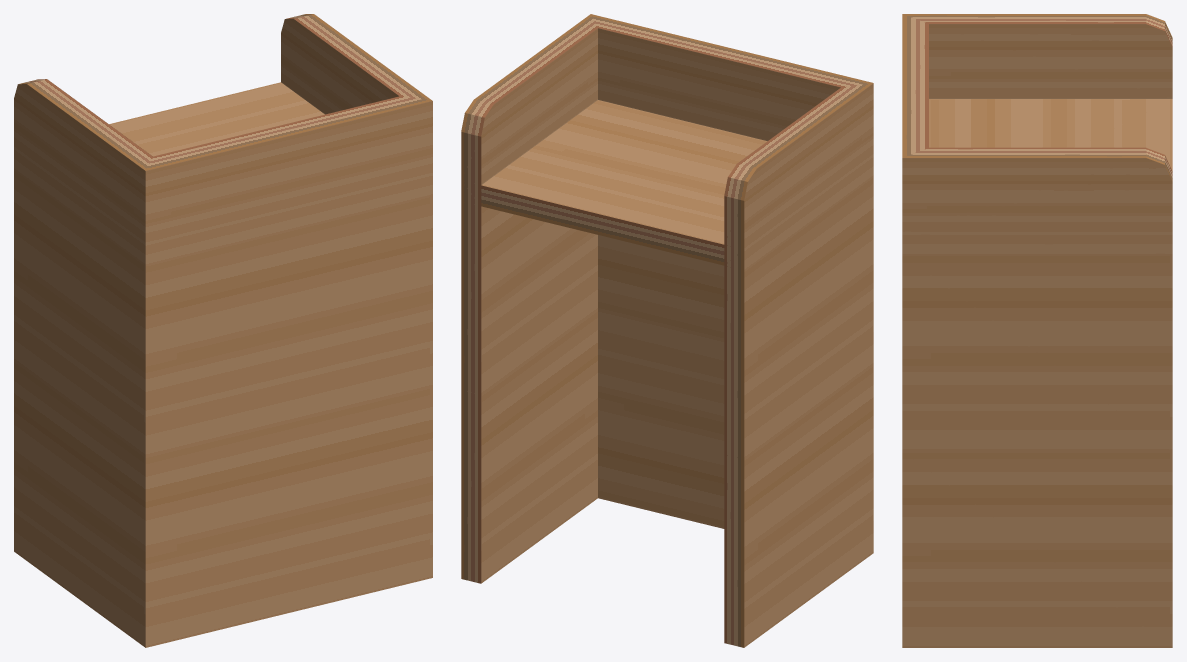
The model's file is lectern.fbx.
The picture shows the model from 3 angles, left to right: view 1: azimuth 30°, elevation 25°; view 2: azimuth 150°, elevation 25°; view 3: azimuth 270°, elevation 25°; orthographic projection. The views are drawn at different scales.
Visible parts, largest first — view 1: lectern; view 2: lectern; view 3: lectern.
Part boxes in pixels (x1,y1,x2,y2): lectern: (14,14,432,647); lectern: (461,14,873,647); lectern: (902,14,1172,647).
Size of the model in its own units: 126 by 200 by 100.
Materials: 1 (1 with a texture image).
